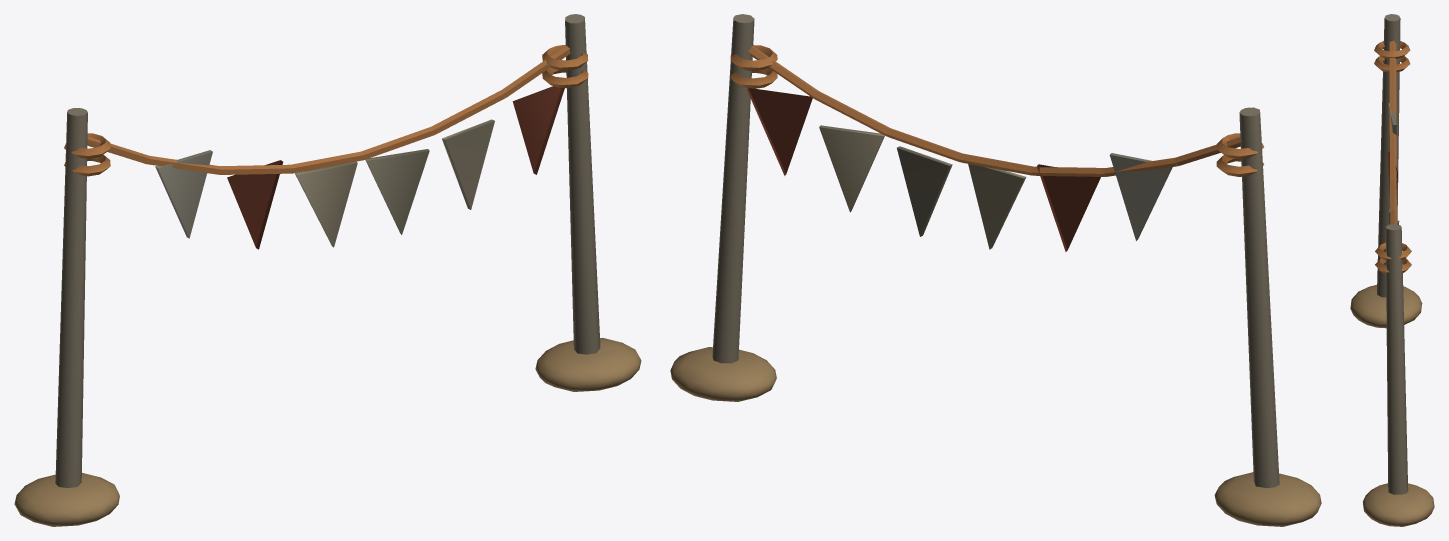
Rendered from keeper_bunting_b_lod2.glb.
3 renders of one model, left to right at view 1: azimuth 30°, elevation 25°; view 2: azimuth 150°, elevation 25°; view 3: azimuth 270°, elevation 25°, orthographic. The views are drawn at different scales.
Parts seen in each view (by area): view 1: Surface.001; view 2: Surface.001; view 3: Surface.001.
Part boxes in pixels (x1=…): Surface.001: x1=14, y1=14, x2=641, y2=526; Surface.001: x1=670, y1=14, x2=1321, y2=526; Surface.001: x1=1350, y1=14, x2=1434, y2=526.
Bounding box in the file's own units: 4.47 × 2.76 × 0.6814.
